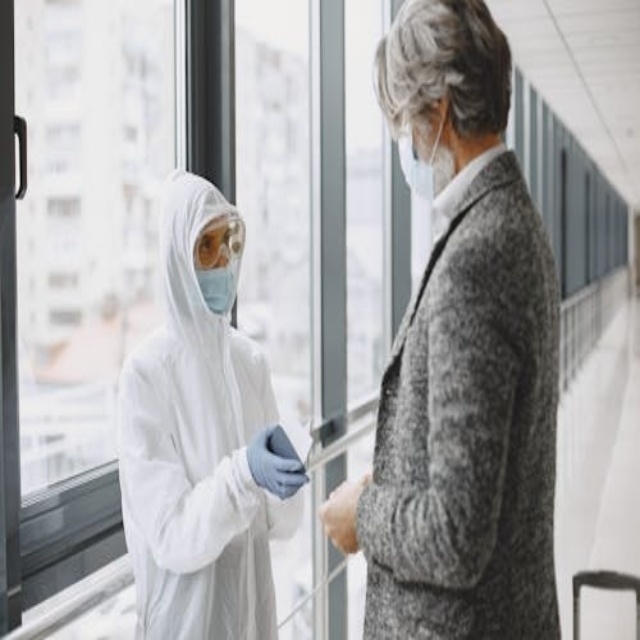Gafas: (195, 218, 245, 270)
Guantes: (245, 424, 308, 500)
Mascara: (399, 104, 453, 201), (196, 261, 239, 318)
Sin_guantes: (318, 469, 368, 555)
